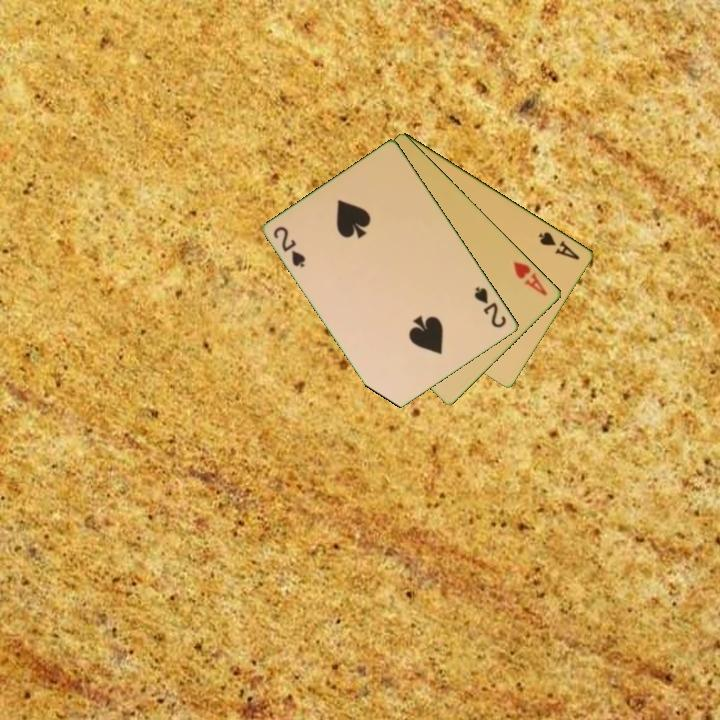2s: (471, 283, 510, 331), (270, 223, 309, 271)
Ah: (510, 258, 551, 298)
As: (535, 228, 583, 263)
